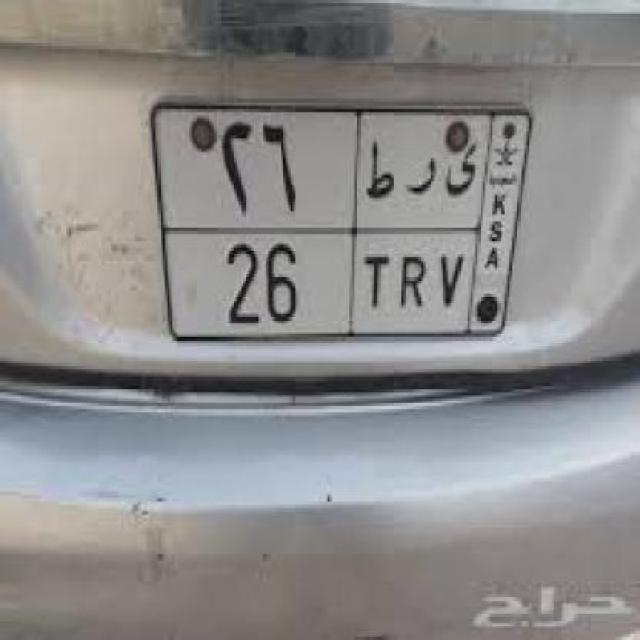license_plate: (148, 99, 537, 346)
